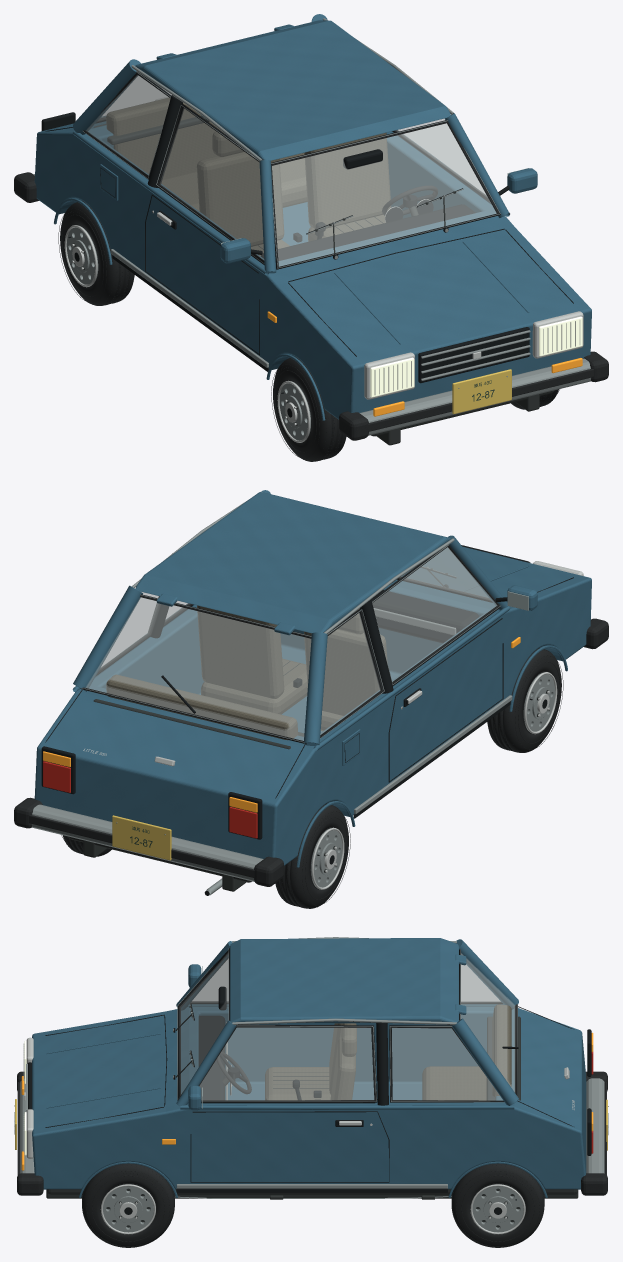
File: kei_hatchback.glb
3 views of the same model, one above another, from view 1: azimuth 30°, elevation 25°; view 2: azimuth 150°, elevation 25°; view 3: azimuth 270°, elevation 25° (orthographic). The views are drawn at different scales.
Parts seen in each view (by area): view 1: Body, Wheel_FL_mesh, Wheel_RL_mesh; view 2: Body, Wheel_RL_mesh, Wheel_FL_mesh; view 3: Body, Wheel_RR_mesh, Wheel_FR_mesh.
Boxes of the visible parts, <box> form: Body: <box>14,14,608,445</box>; Wheel_FL_mesh: <box>271,356,346,461</box>; Wheel_RL_mesh: <box>58,200,134,305</box>; Body: <box>14,490,608,895</box>; Wheel_RL_mesh: <box>275,803,350,908</box>; Wheel_FL_mesh: <box>487,647,563,752</box>; Body: <box>14,937,608,1199</box>; Wheel_RR_mesh: <box>451,1163,544,1247</box>; Wheel_FR_mesh: <box>82,1163,174,1247</box>.
Size of the model in its own units: 1.76 by 1.37 by 3.33.
17 materials, 3 textured.
